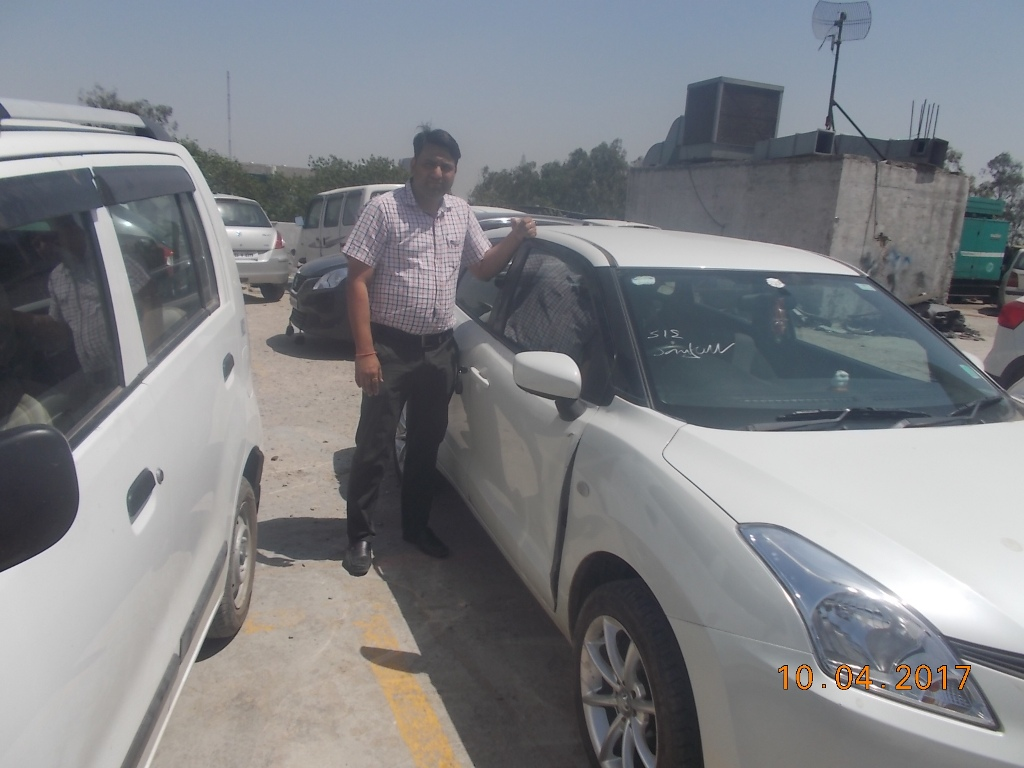Dislocation: (543, 425, 581, 602)
